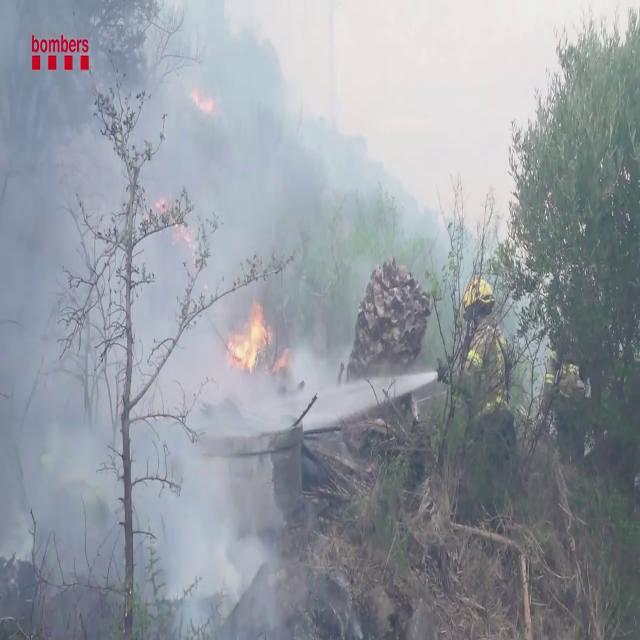Fire: (228, 295, 272, 373)
Smoke: (0, 21, 306, 638)
